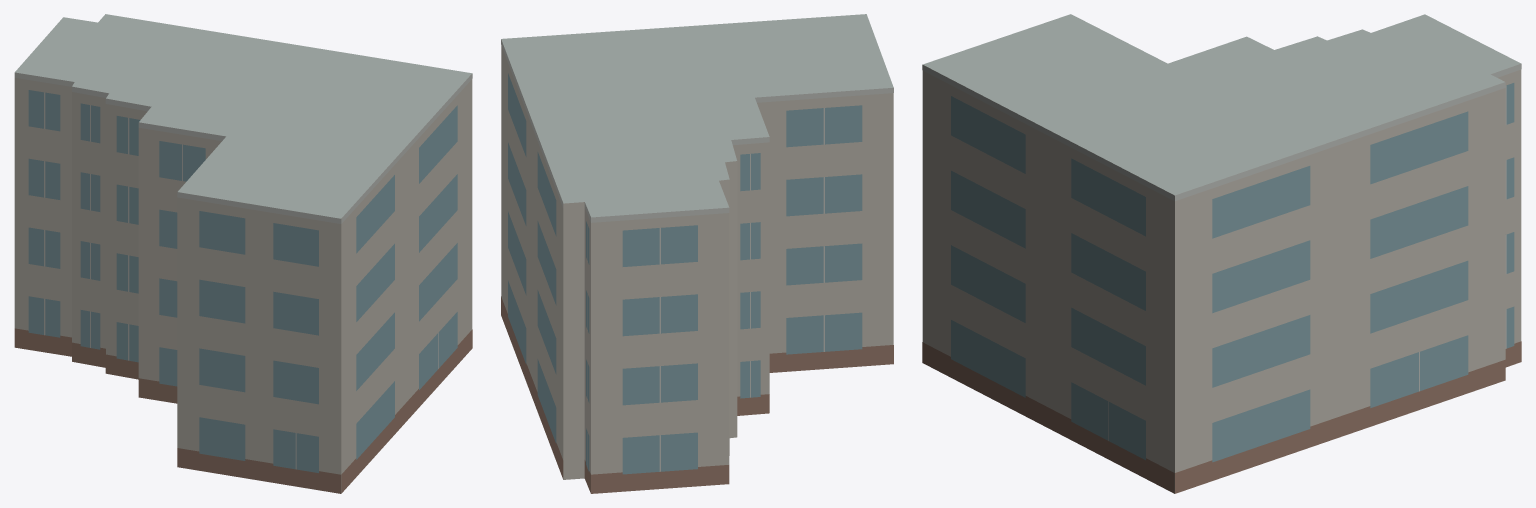
File: survey-upis-32914641.glb
3 views of the same model, side by side, from view 1: azimuth 30°, elevation 25°; view 2: azimuth 150°, elevation 25°; view 3: azimuth 270°, elevation 25° (orthographic). The views are drawn at different scales.
Visible parts, largest first — view 1: survey-upis-32914641.tmp; view 2: survey-upis-32914641.tmp; view 3: survey-upis-32914641.tmp.
Part boxes in pixels (x1=…): survey-upis-32914641.tmp: x1=14, y1=14, x2=472, y2=493; survey-upis-32914641.tmp: x1=501, y1=14, x2=893, y2=493; survey-upis-32914641.tmp: x1=922, y1=14, x2=1521, y2=493.
Bounding box in the file's own units: 16.31 × 12.5 × 22.74.
